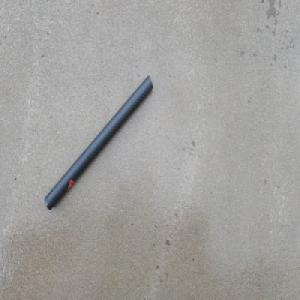LuggagePart: (44, 74, 154, 213)
